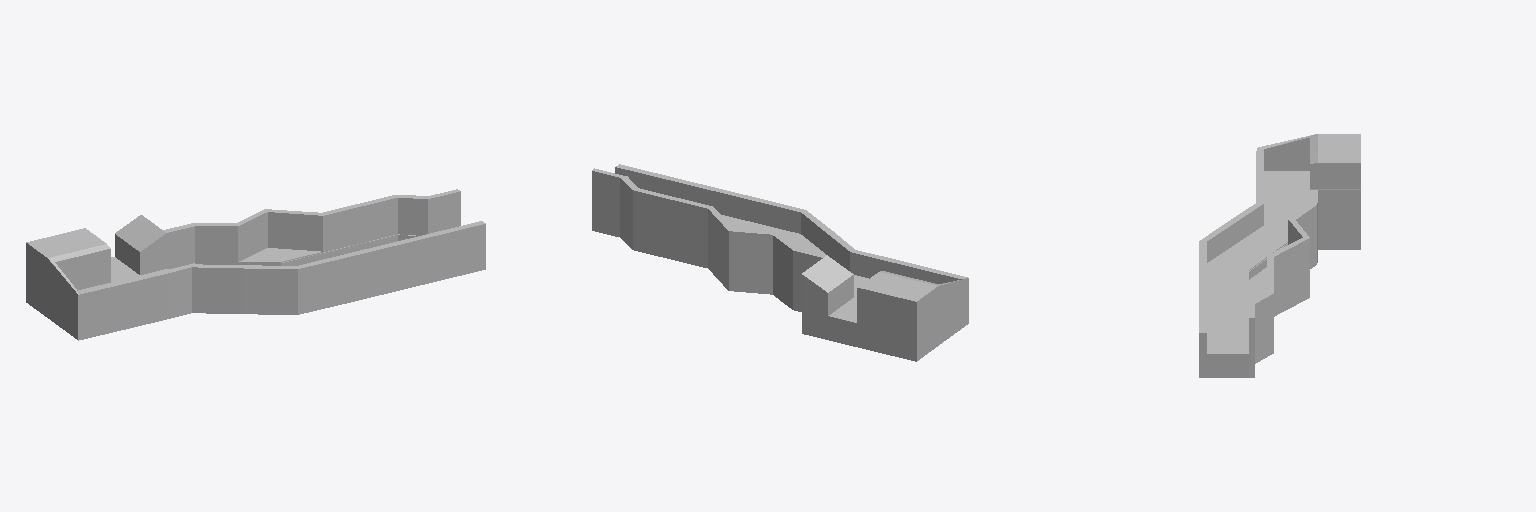
Rendered from HallwayB.obj.
The picture shows the model from 3 angles: view 1: azimuth 30°, elevation 25°; view 2: azimuth 150°, elevation 25°; view 3: azimuth 270°, elevation 25°; orthographic projection.
Visible parts, largest first — view 1: pCube1; view 2: pCube1; view 3: pCube1.
Boxes of the visible parts, x1=… form: pCube1: x1=26, y1=189, x2=485, y2=340; pCube1: x1=592, y1=164, x2=968, y2=361; pCube1: x1=1199, y1=134, x2=1360, y2=377.
Size of the model in its own units: 38.98 by 5.9 by 14.5.